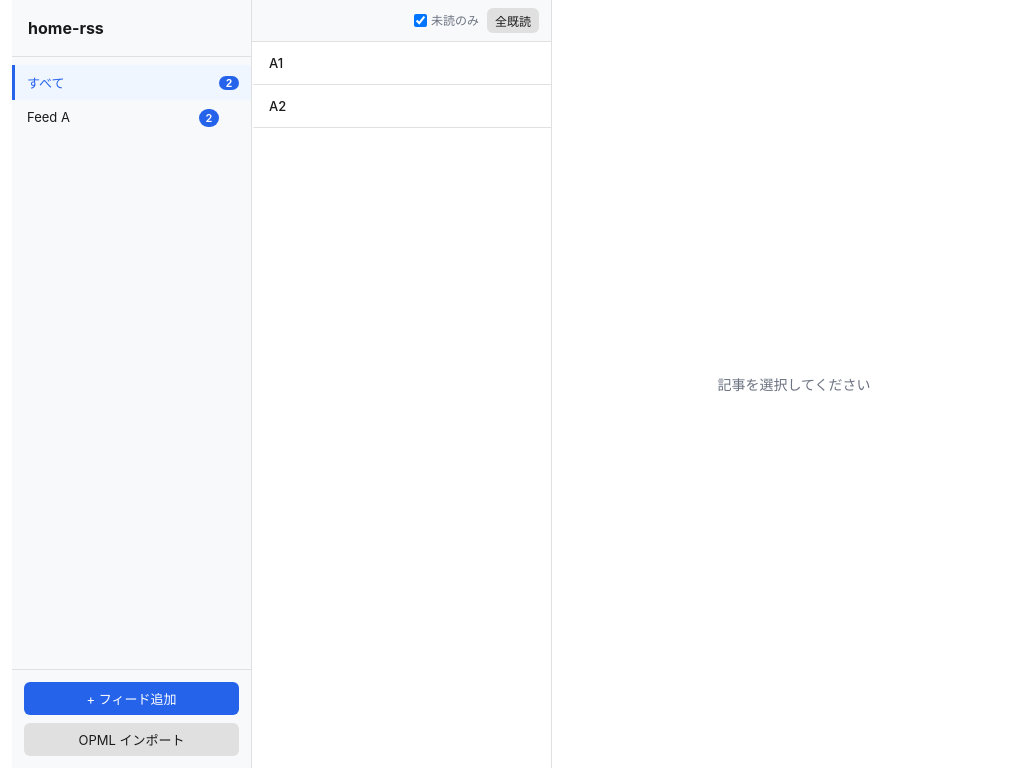
App › marking everything read › drops the articles opened before from the unread-only list
This screenshot has width=1036, height=768.
Click the text "A1": (276, 63) [269,55,283,71]
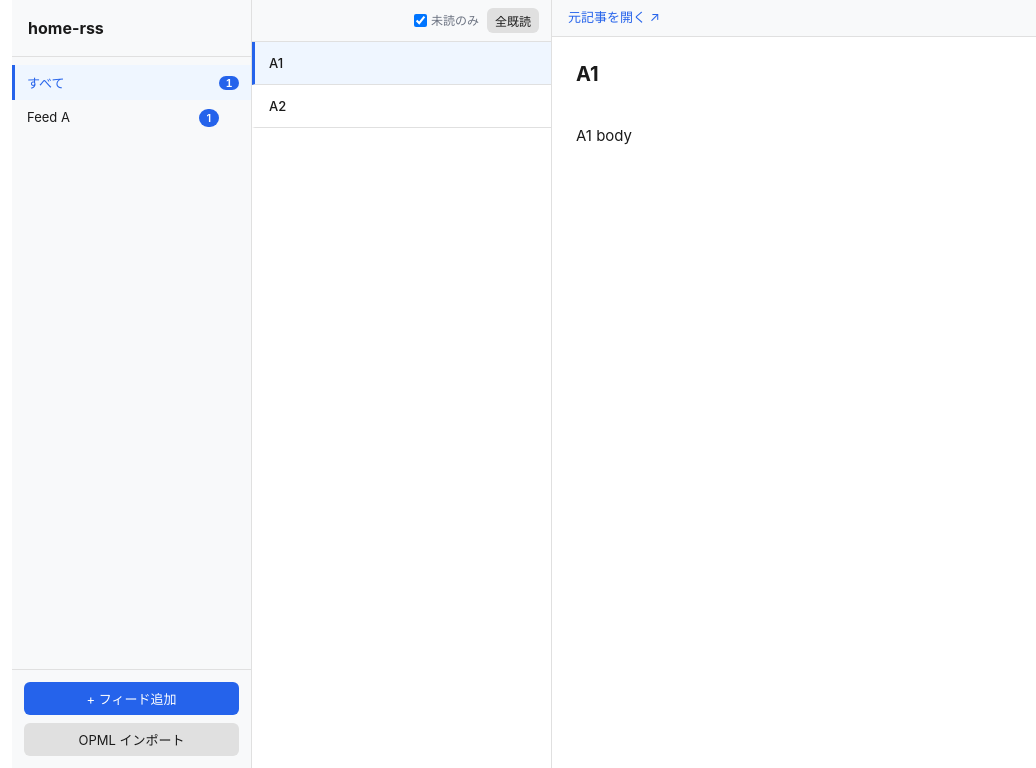
Click the button "全既読": (513, 20) [487,8,539,33]
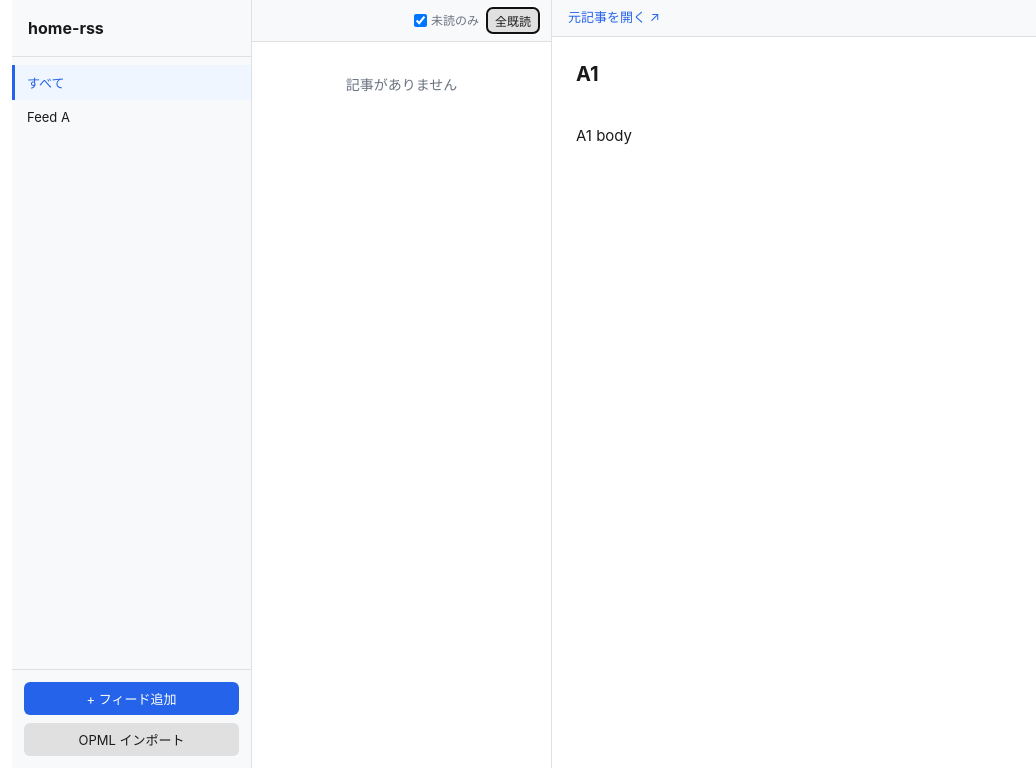
Expected: the text "記事がありません" is shown, [346,76,457,93]
